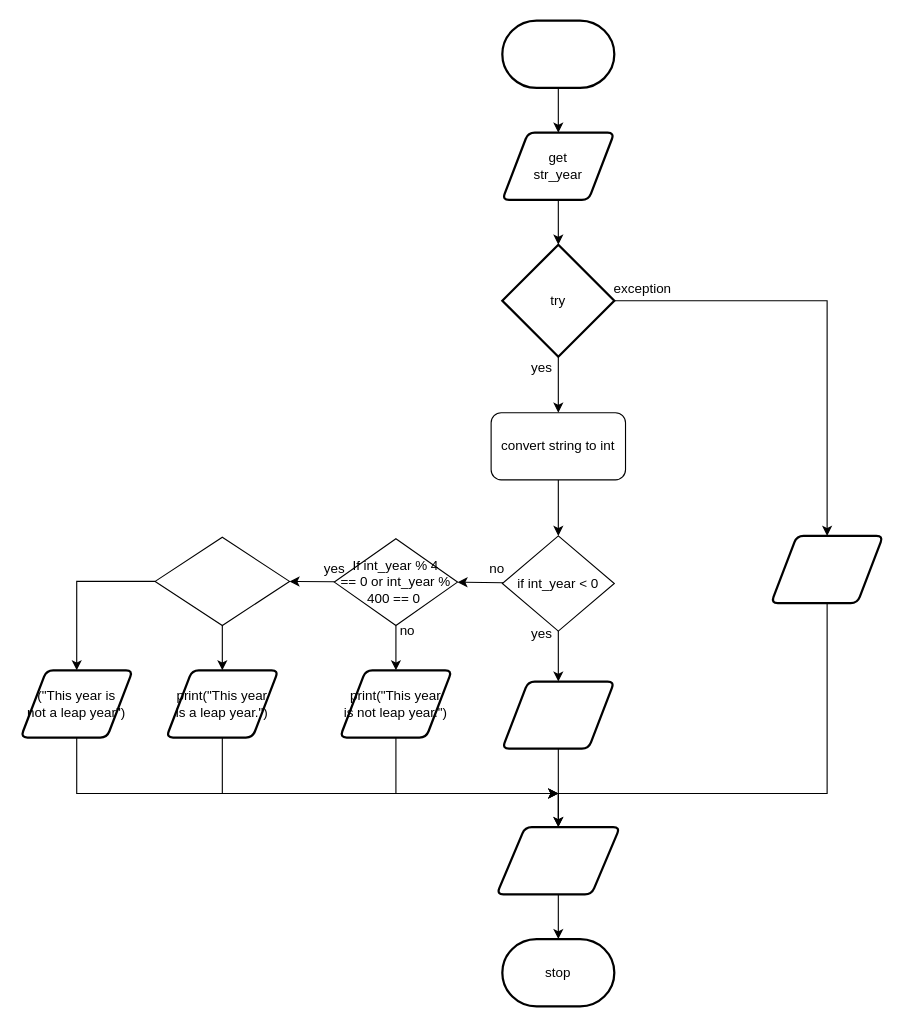
This 903x1026 diagram has some shape labels left out. The centre of each missing label's shape, as x and y in pixels:
int_year % 100 == 0 and int_year % 400 != 0: [222,581]
print "Invalid integer": [558,714]
print "Invalid integer.": [826,569]
print "Thank you for playing!: [557,860]
start: [558,53]
